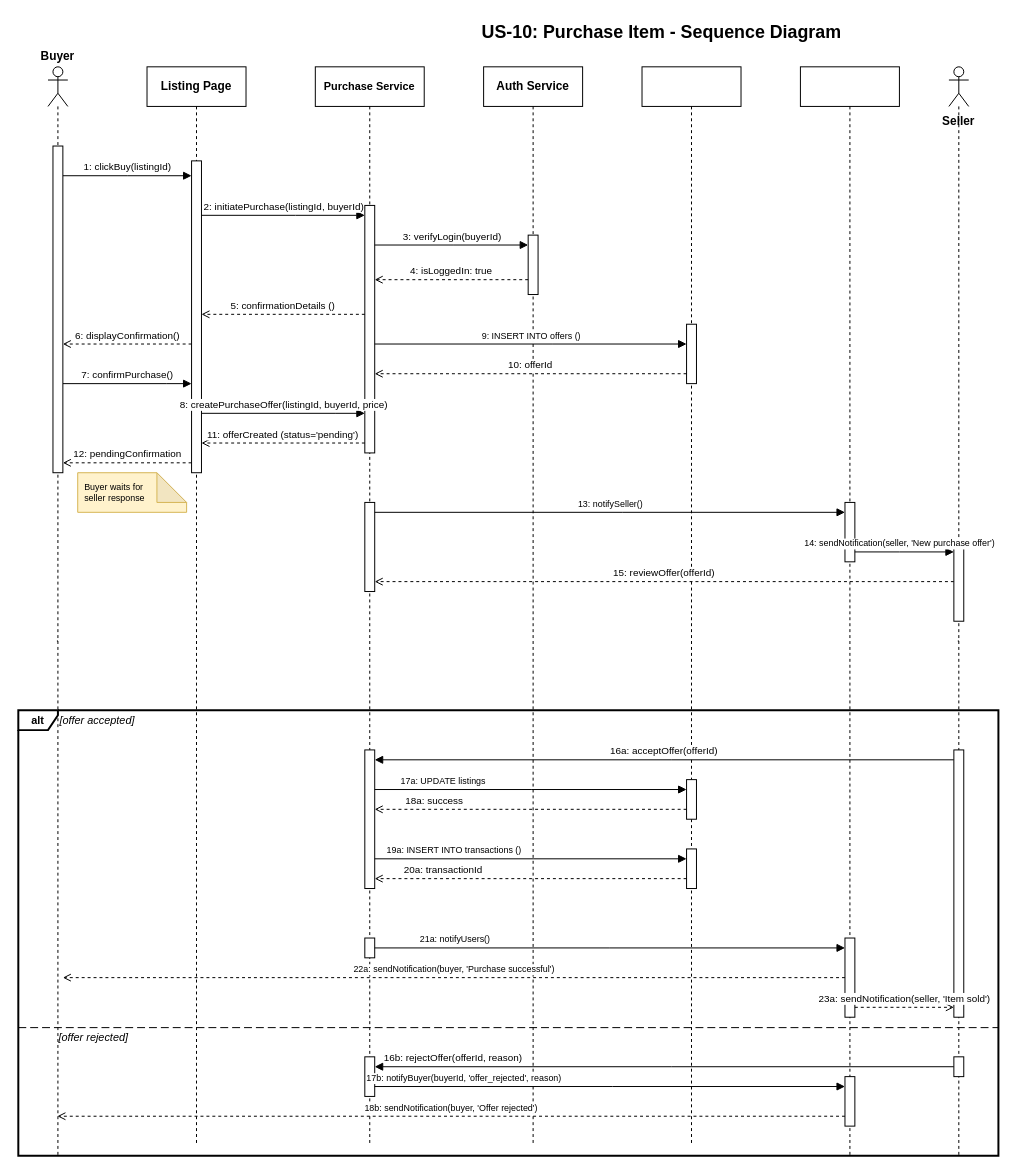
This 1016x1173 diagram has some shape labels left out. The box of each missing label's shape, as (x1, y1, x2, y2) in pixels:
Database: (641, 66, 741, 1146)
Notification Service: (799, 66, 899, 1156)
